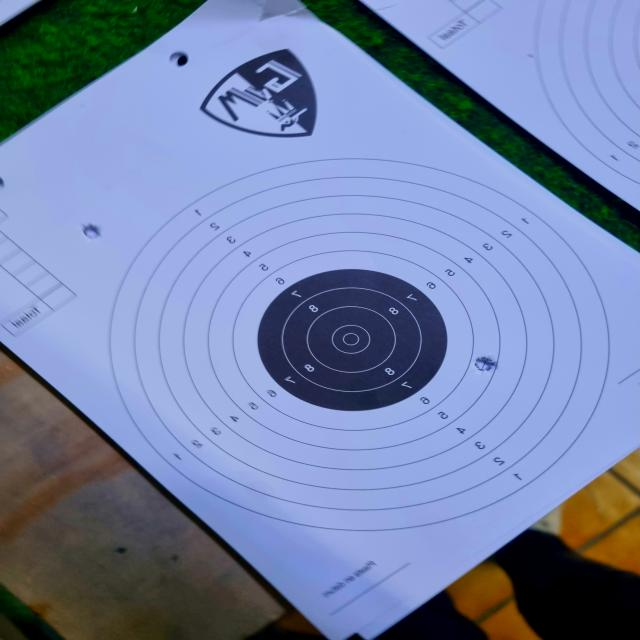0: (84, 224, 102, 238)
5: (475, 357, 498, 371)
Target: (86, 167, 624, 524)
black_contour: (254, 267, 446, 414)
